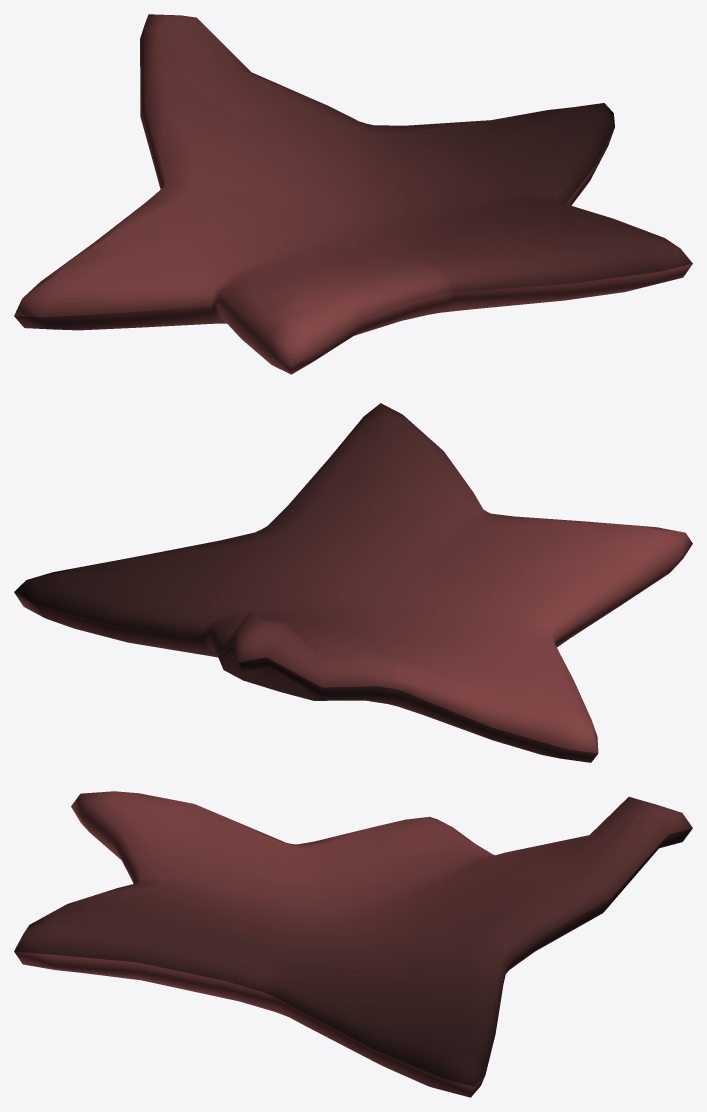
Rendered from star.glb.
3 views of the same model, one above another, from view 1: azimuth 30°, elevation 25°; view 2: azimuth 150°, elevation 25°; view 3: azimuth 270°, elevation 25° (orthographic). The views are drawn at different scales.
Visible parts, largest first — view 1: cc_star2; view 2: cc_star2; view 3: cc_star2.
Boxes of the visible parts, bbox=[...] form: cc_star2: bbox=[14, 14, 692, 374]; cc_star2: bbox=[14, 403, 692, 762]; cc_star2: bbox=[14, 791, 692, 1097].
Size of the model in its own units: 0.0951 by 0.026 by 0.0933.
1 material, 1 textured.
